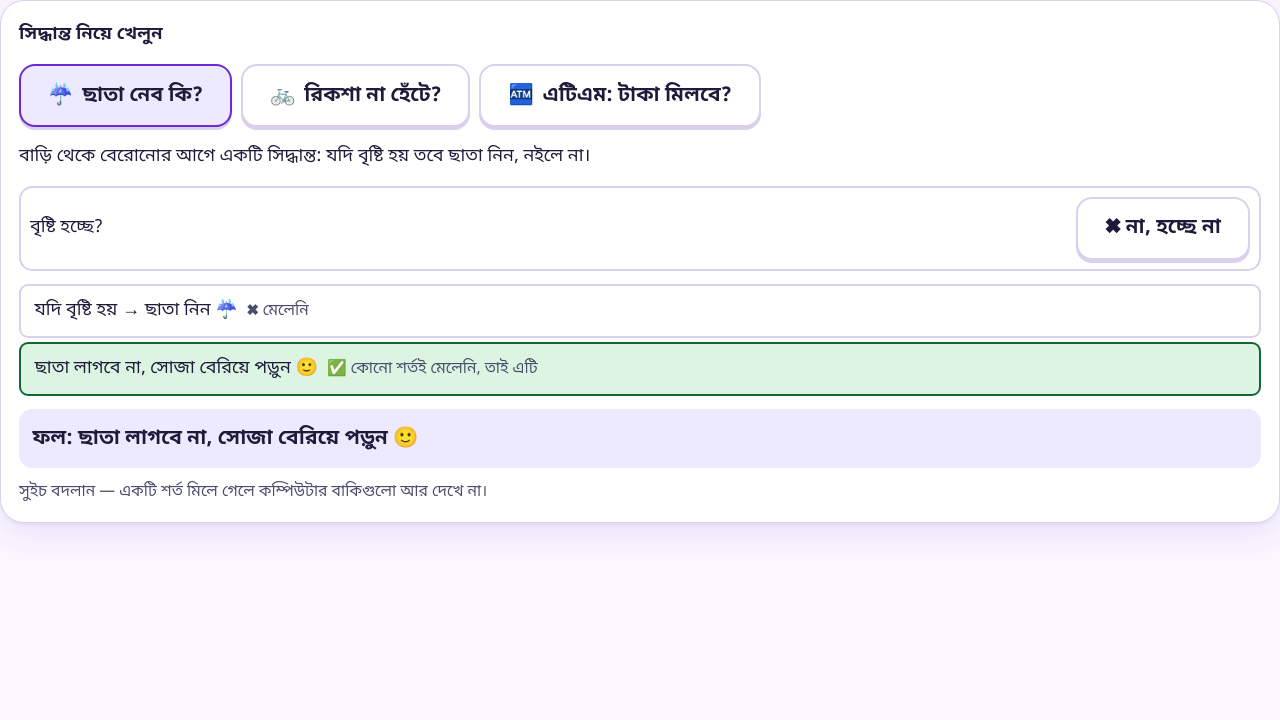
Scenario: if-else-explorer › toggling changes the outcome
The width and height of the screenshot is (1280, 720).
Check: the message with test id "ie-outcome" shows "ছাতা লাগবে না", box [78,424,418,452]
Click the switch with test id "ie-toggle-rain" at (1163, 228), box [1076,196,1250,260]
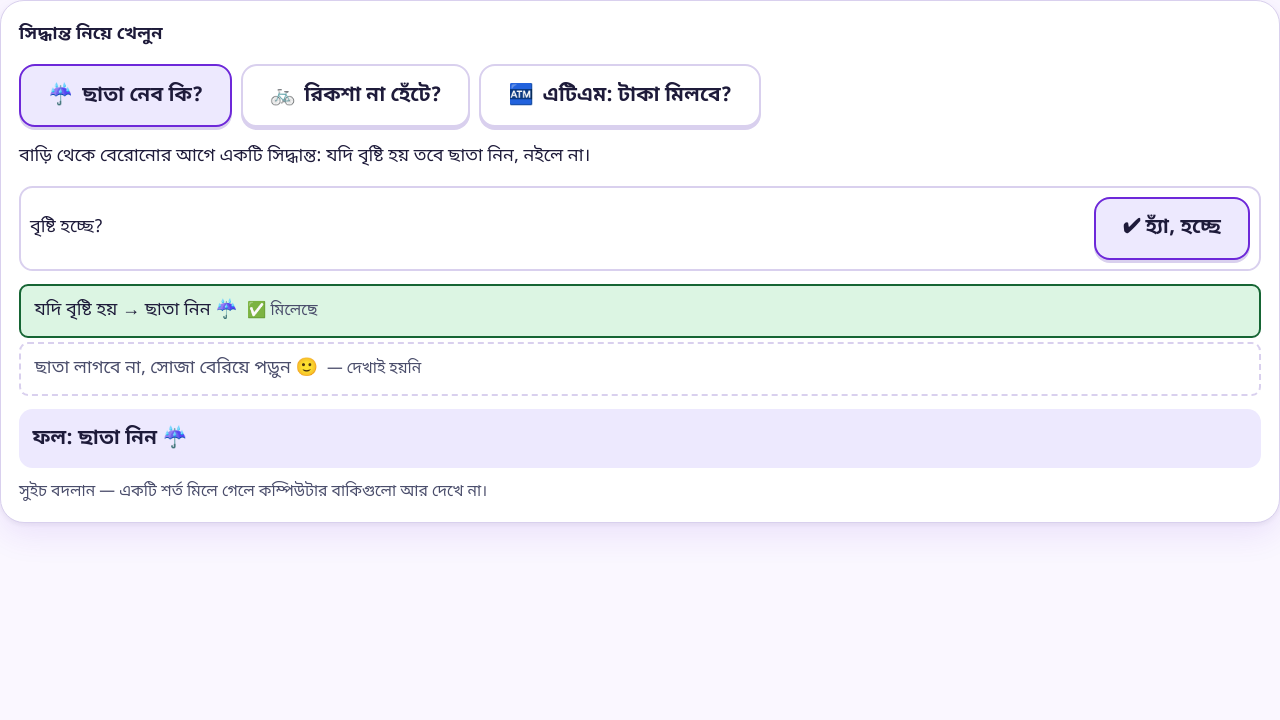
Check: the message with test id "ie-outcome" shows "ছাতা নিন", box [78,424,188,452]
